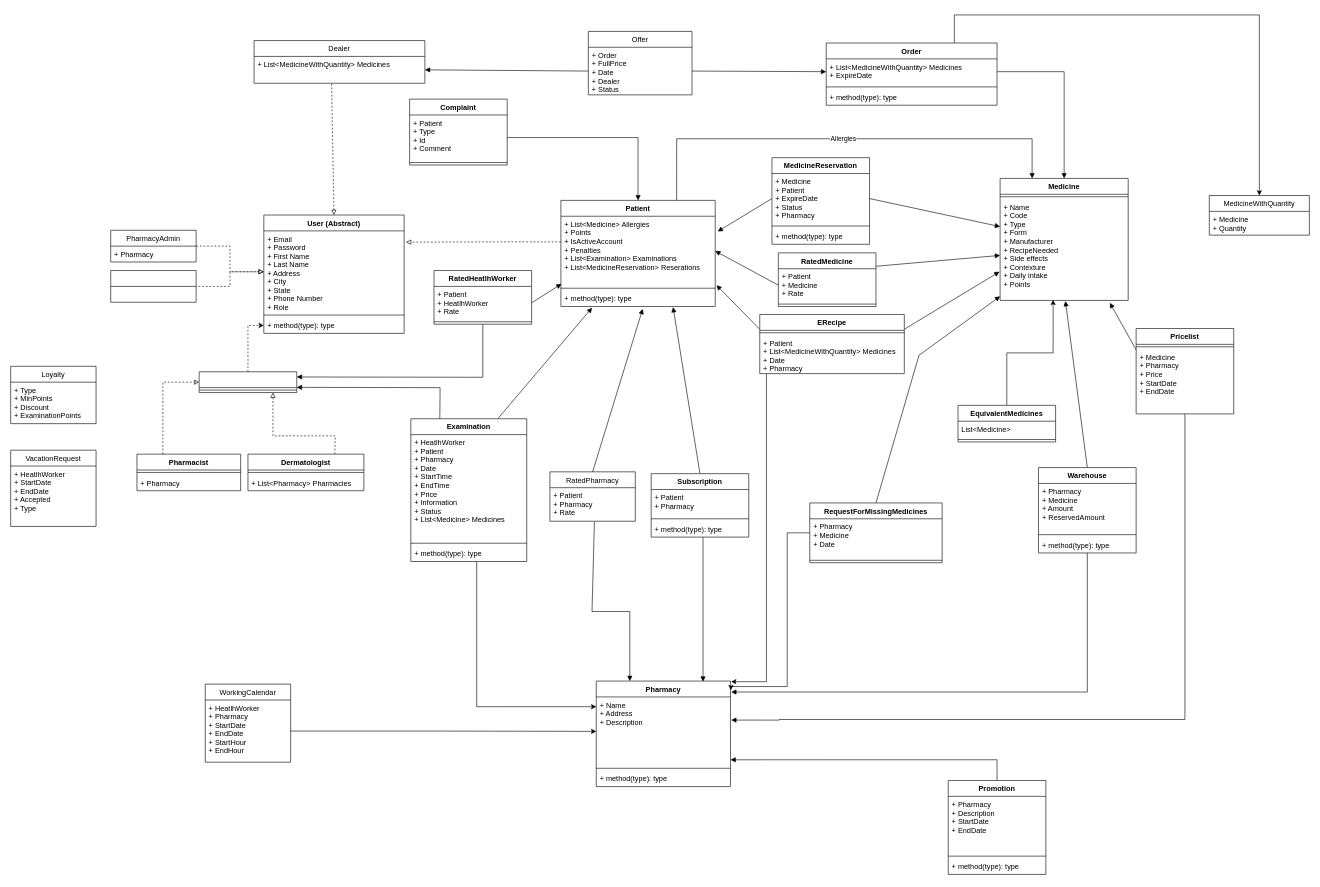
This 1320x887 diagram has some shape labels left out. Each missing label, with the centre of its shape:
"HealthWorker" belongs at point (248, 382).
"SystemAdmin" belongs at point (153, 286).
